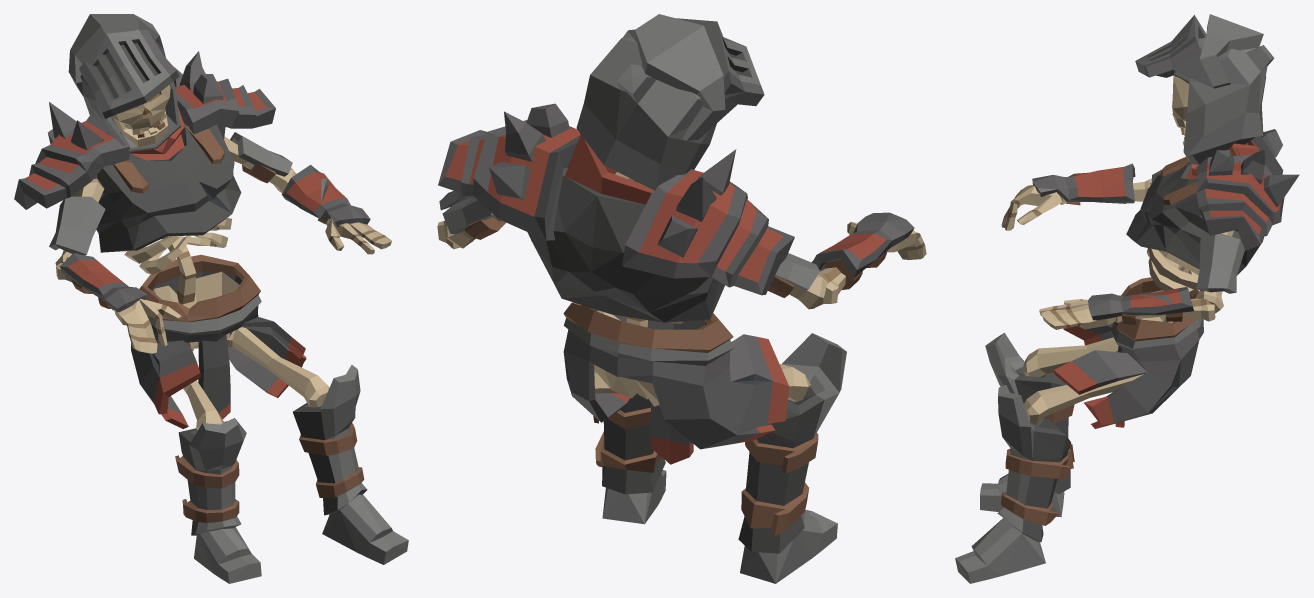
File: SM_Prop_Skeleton_Knight_Throne_01.fbx
The picture shows the model from 3 angles, left to right: view 1: azimuth 30°, elevation 25°; view 2: azimuth 150°, elevation 25°; view 3: azimuth 270°, elevation 25°; orthographic projection. The views are drawn at different scales.
Parts seen in each view (by area): view 1: SM_Prop_Skeleton_Knight_Throne_01; view 2: SM_Prop_Skeleton_Knight_Throne_01; view 3: SM_Prop_Skeleton_Knight_Throne_01.
Part boxes in pixels (<box>): SM_Prop_Skeleton_Knight_Throne_01: <box>14,14,408,583</box>; SM_Prop_Skeleton_Knight_Throne_01: <box>437,14,926,583</box>; SM_Prop_Skeleton_Knight_Throne_01: <box>955,14,1299,583</box>.
Size of the model in its own units: 99.36 by 158 by 102.
